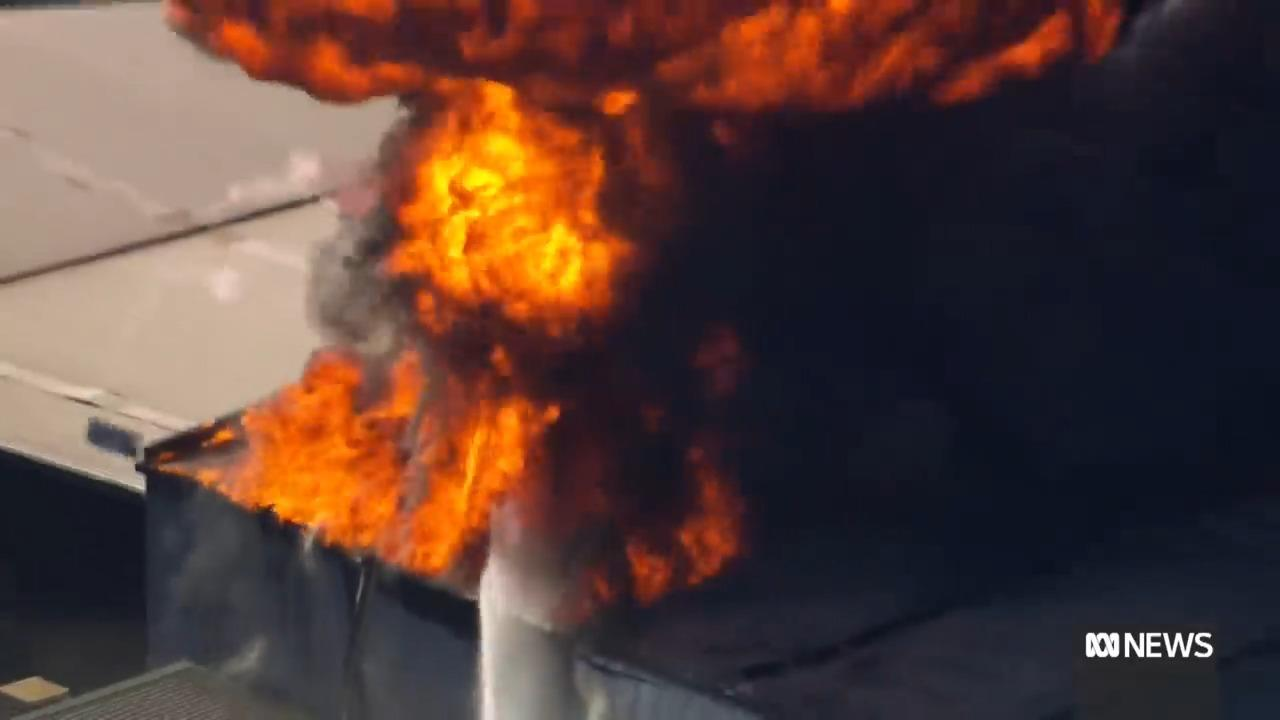fire: (394, 83, 658, 340), (240, 369, 571, 554), (670, 0, 1075, 112)
